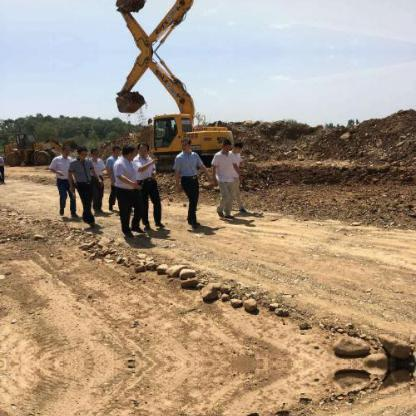No Helmet: (119, 140, 133, 160), (136, 139, 148, 158), (74, 144, 88, 160), (218, 137, 230, 153), (178, 135, 190, 151), (58, 142, 68, 158), (88, 144, 98, 158), (109, 142, 119, 156), (232, 138, 242, 152)
